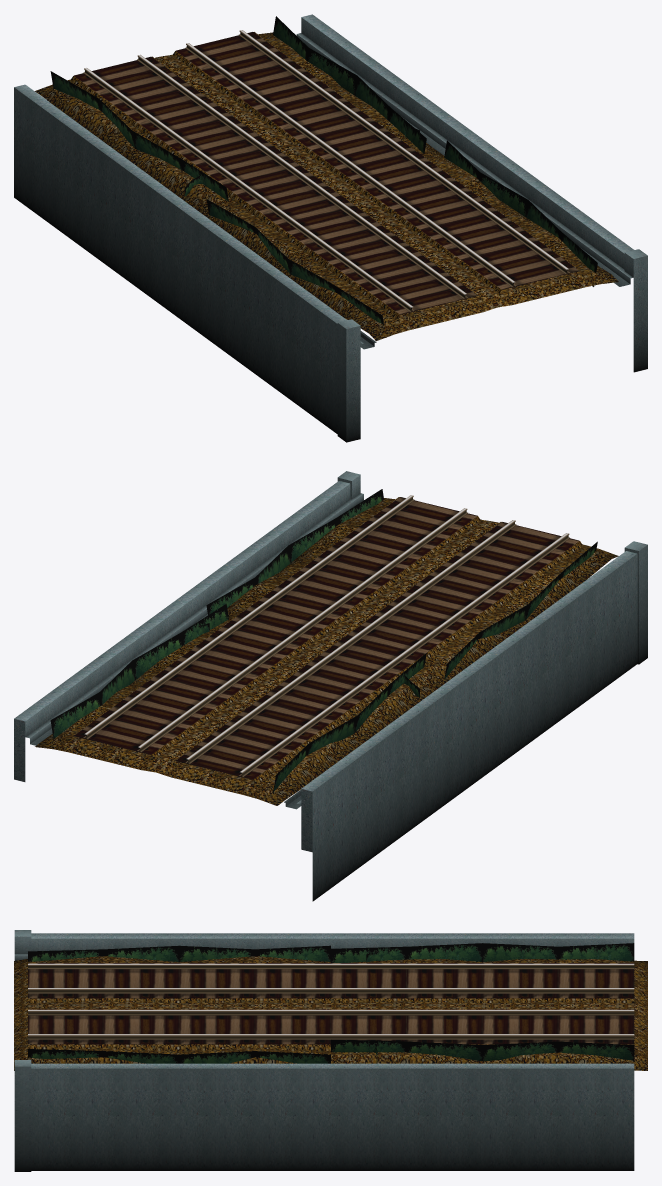
Rendered from K_JARI_2RAIL50.glb.
3 renders of one model, top to bottom at view 1: azimuth 30°, elevation 25°; view 2: azimuth 150°, elevation 25°; view 3: azimuth 270°, elevation 25°, orthographic. The views are drawn at different scales.
Parts seen in each view (by area): view 1: obj3; view 2: obj3; view 3: obj3.
Part boxes in pixels (<box>): obj3: <box>14,14,647,442</box>; obj3: <box>14,471,647,901</box>; obj3: <box>14,930,647,1171</box>.
Size of the model in its own units: 26.63 by 9.96 by 52.26.
5 materials, 4 textured.
